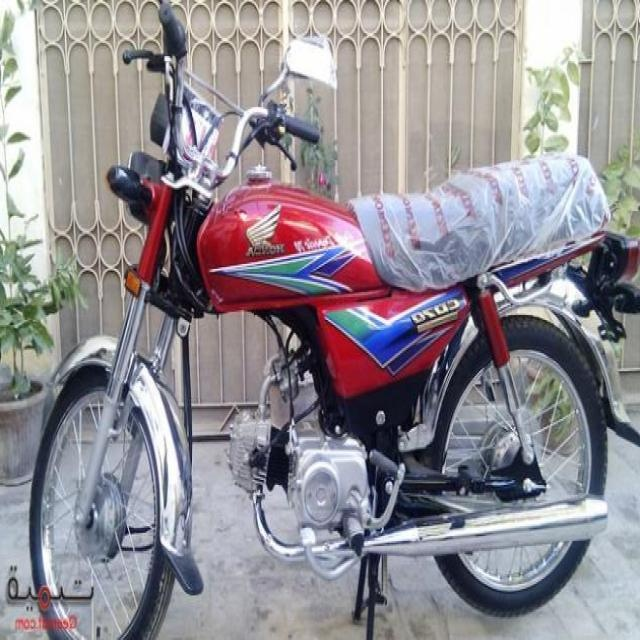motorcycle: (24, 5, 640, 627)
